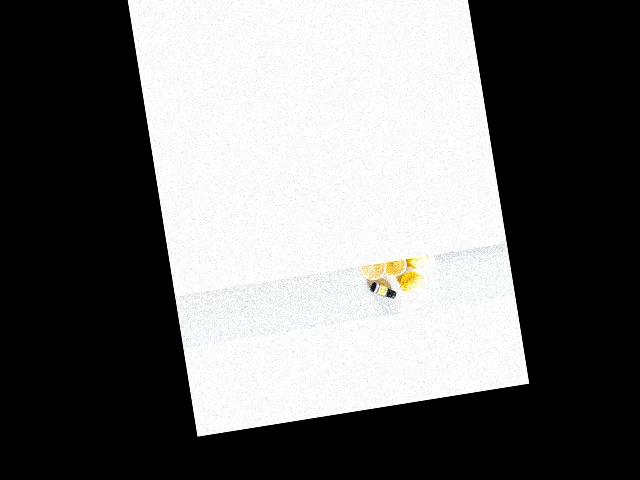lemon: (398, 272, 426, 293)
